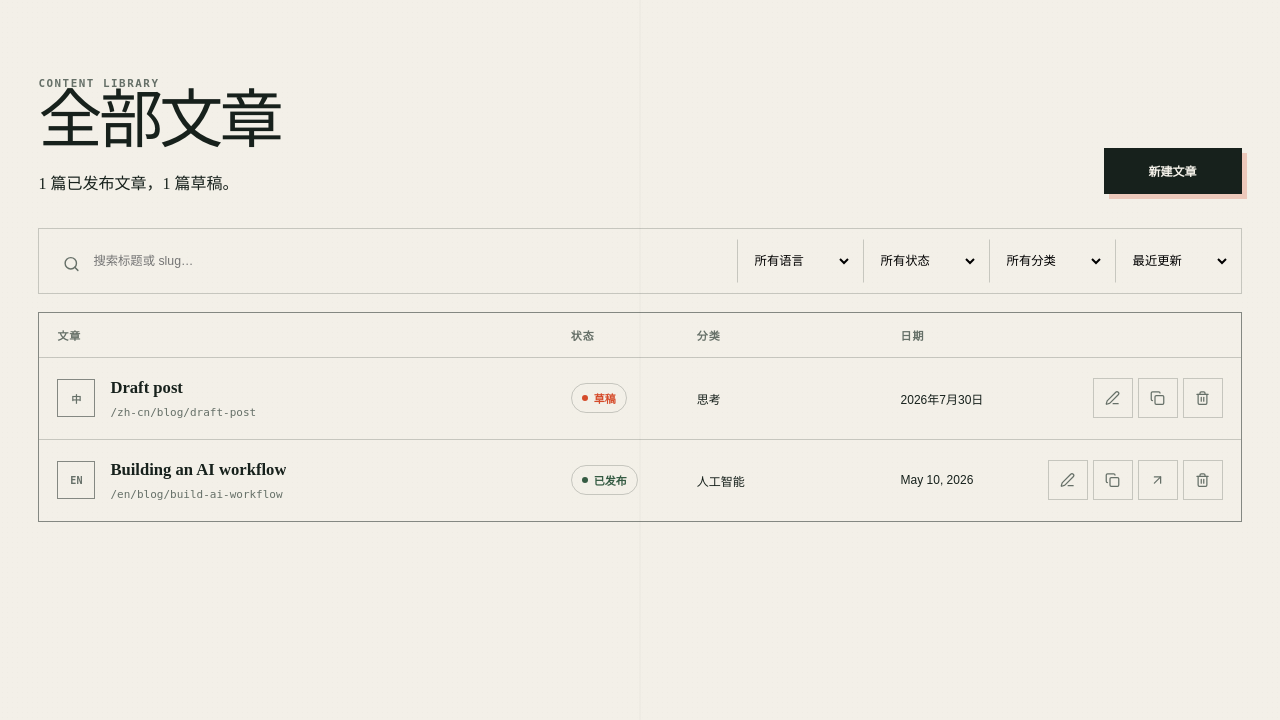
AdminPostsView row actions › deletes a published post and removes it from the table
This screenshot has width=1280, height=720.
Click the button named "删除 Building an AI workflow". click: click(1203, 480)
box: [1183,460,1223,500]
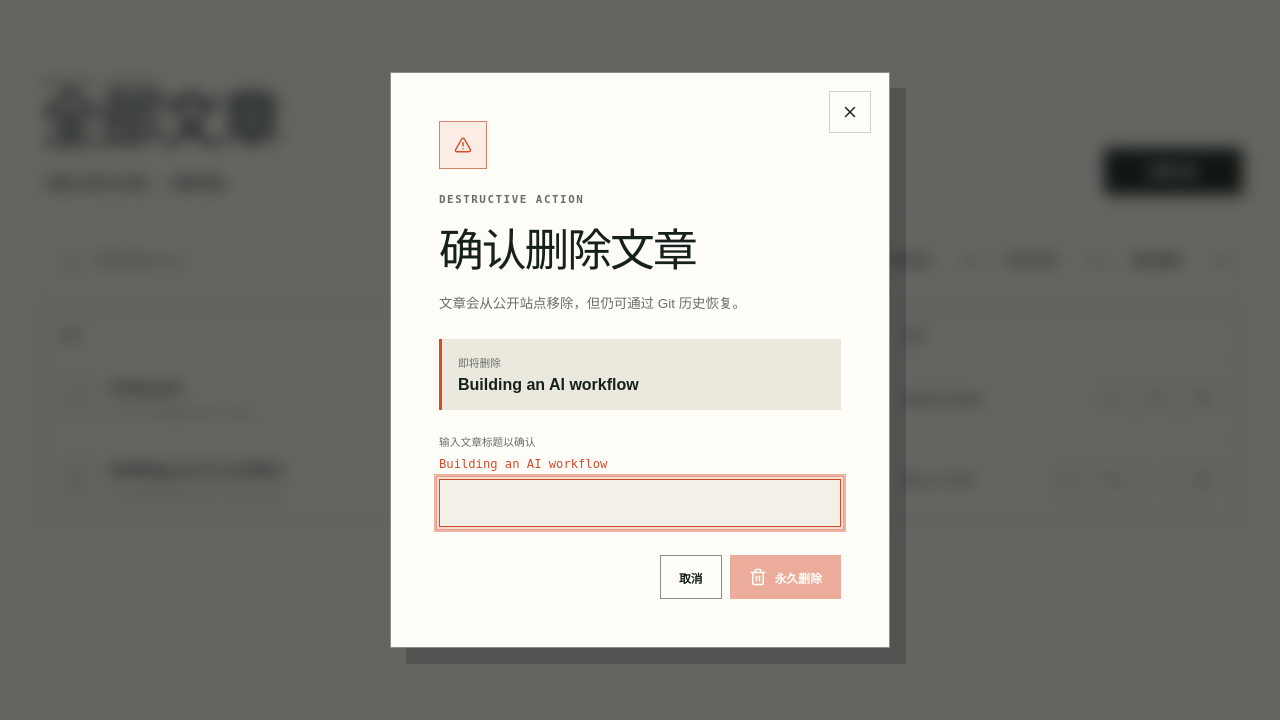
Type "Building an AI workflow" into the field labelled "输入文章标题以确认". click: (640, 503)
box: [439,479,841,527]
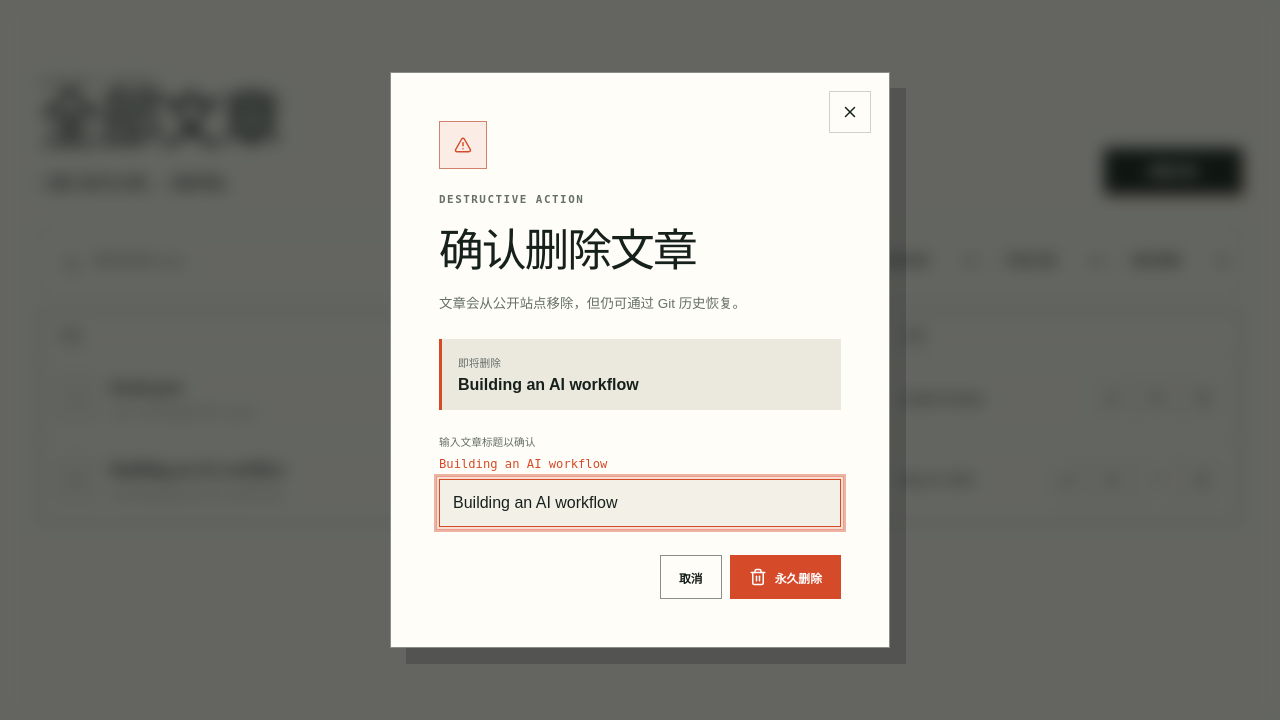
Click the button "永久删除". click: click(785, 577)
box: [730,555,841,599]
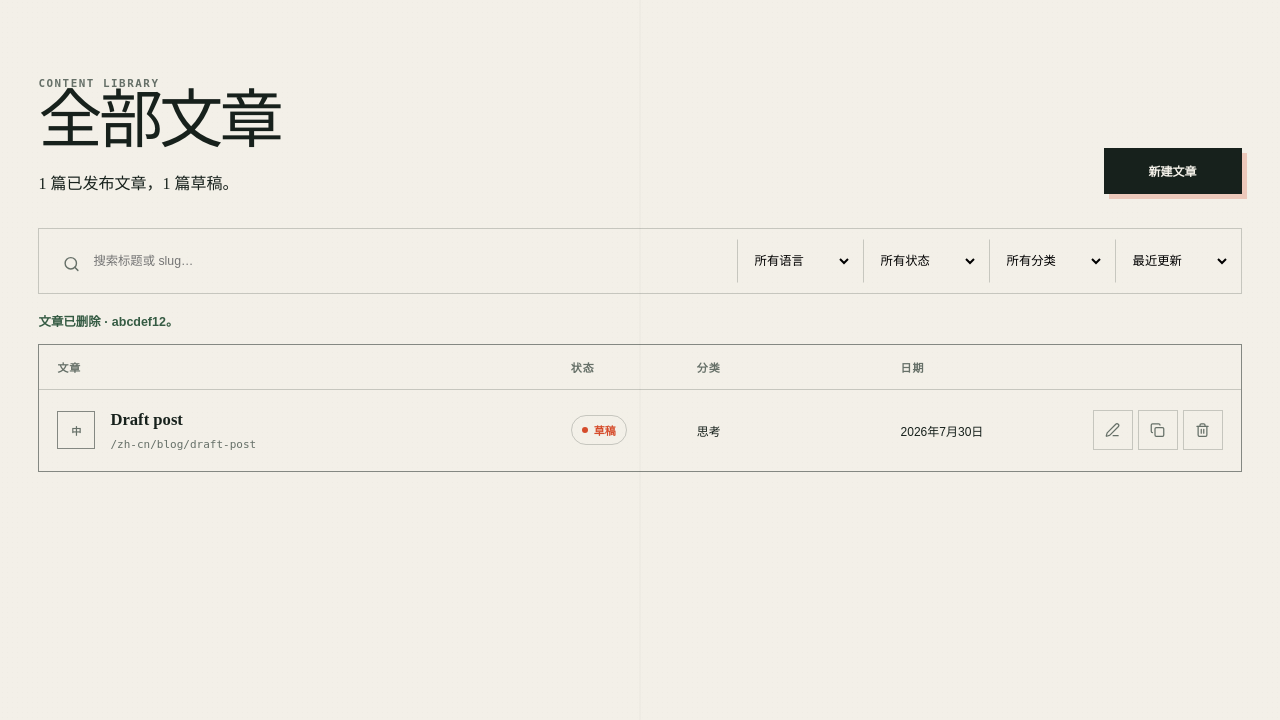
Check: the text "Building an AI workflow" is gone
Check: the text "文章已删除 · abcdef12。" is shown, box [38,314,178,328]
